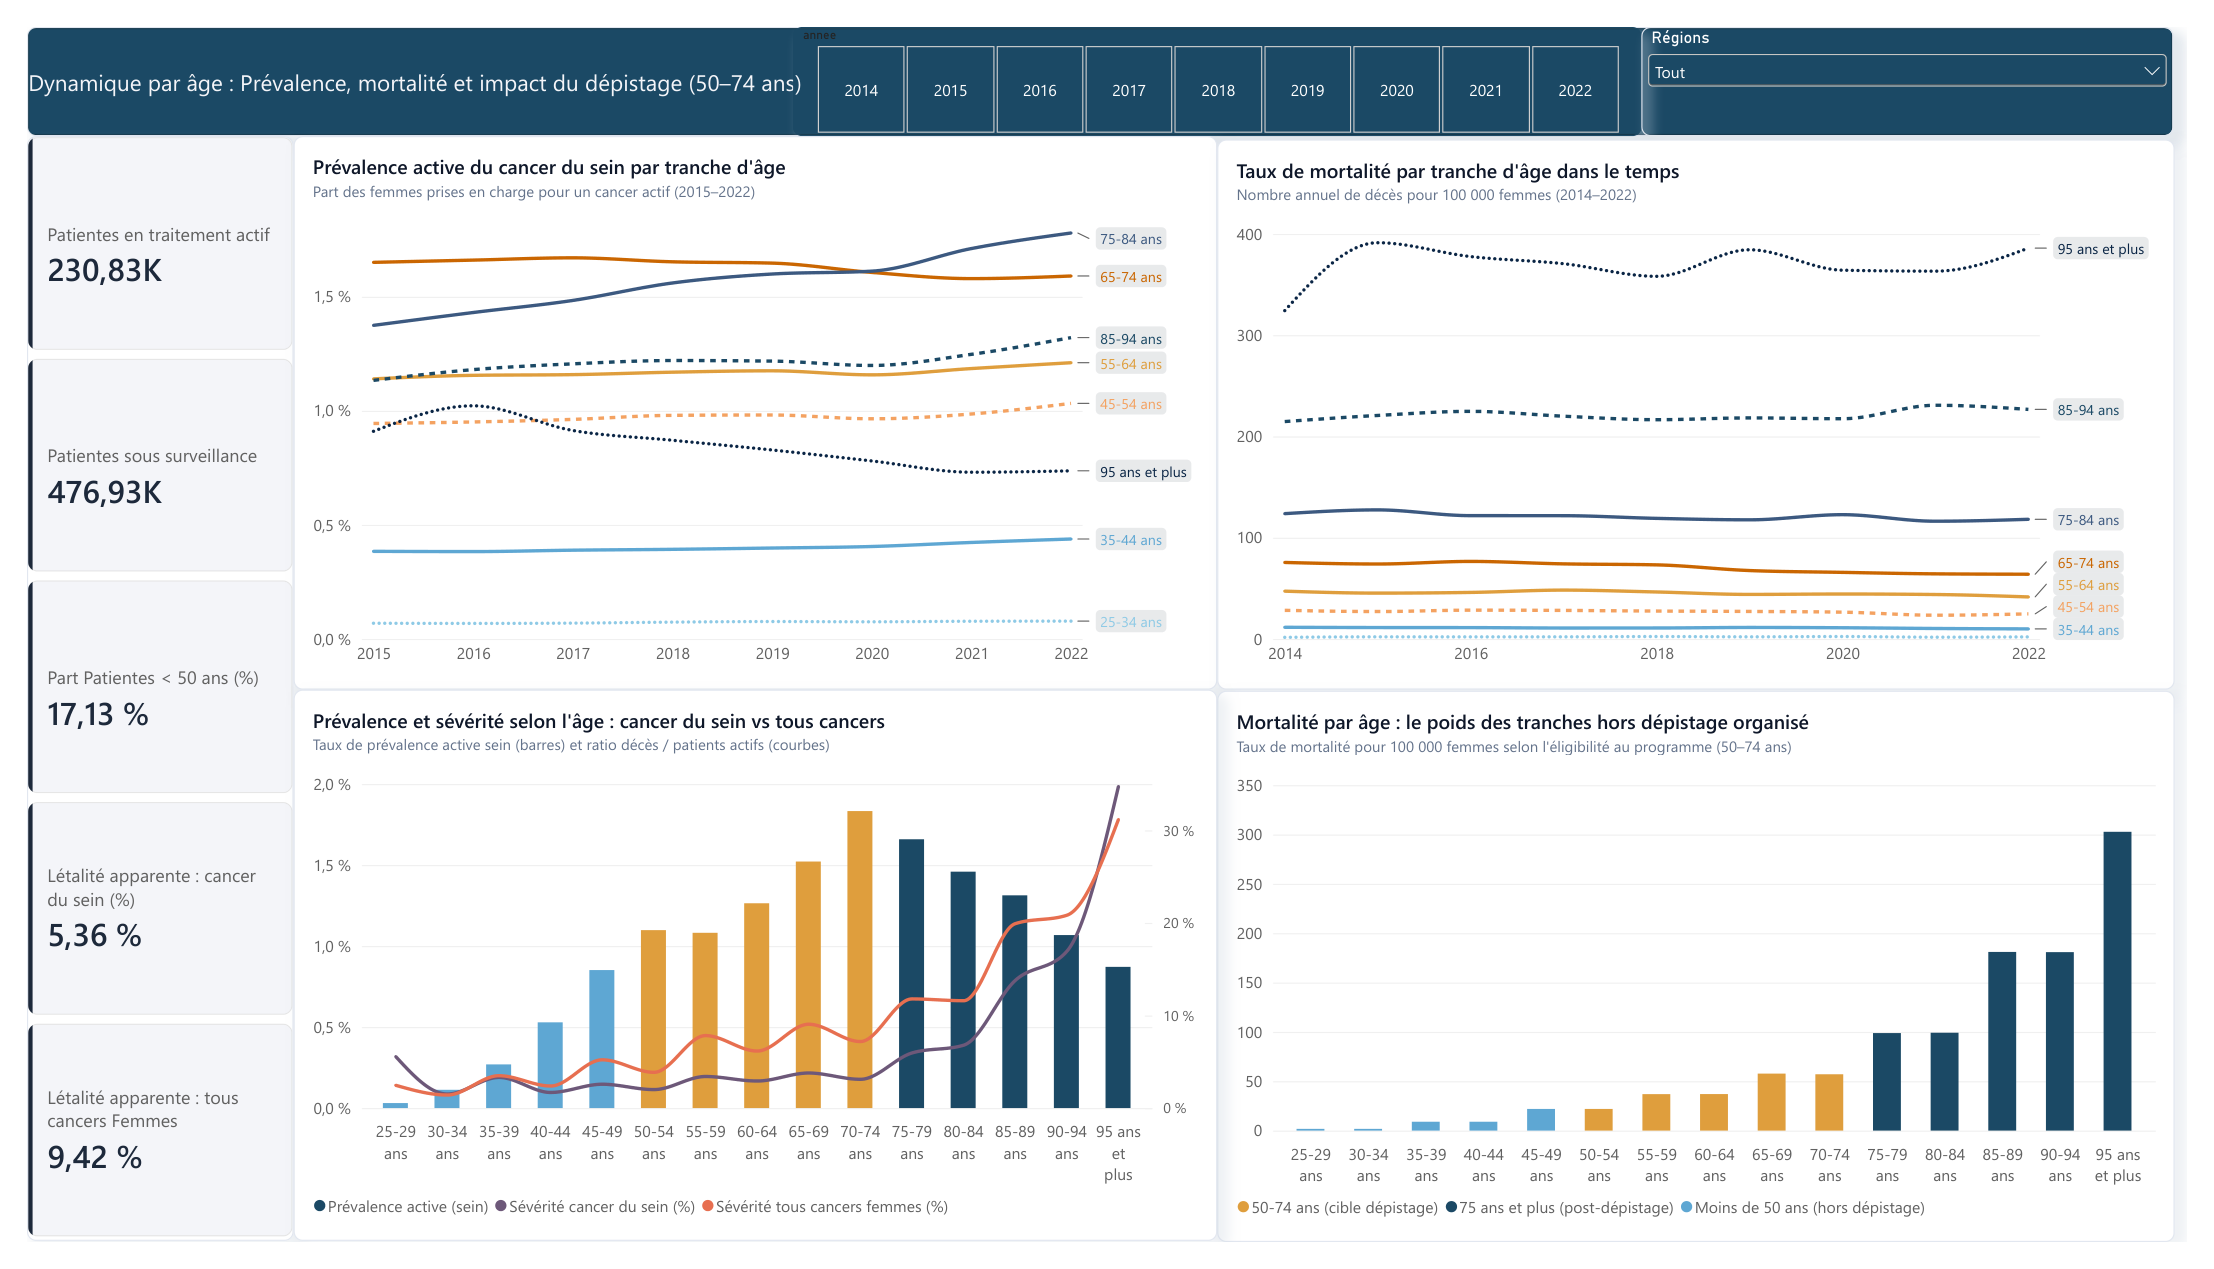

This screenshot's page, from the dashboard's own definition file:
{"tool":"powerbi","page":{"name":"Évolution par tranche d'âge — Prévalence, Mortalité et Cible Dépistage","canvas":[1920,1080],"ordinal":2},"visuals":[{"type":"shape","box":[0,0,1908.5,97.2],"z":0},{"type":"slicer","fields":{"Values":["DIM_annee.annee"]},"box":[680.5,0,754.7,97.2],"z":1000},{"type":"slicer","fields":{"Values":["DIM_regions.libelle_region"]},"box":[1435.2,0,473.3,97.2],"z":2000},{"type":"cardVisual","fields":{"Data":["_Mesures.Patientes Actives Sein","_Mesures.Patientes Surveillance Sein","_Mesures.Part Patientes < 50 ans (%)","_Mesures.Ratio Décès / Actifs Sein (%)","_Mesures.Ratio Décès / Actifs Tous Cancers Femmes (%)"]},"box":[0,97.4,237.5,981.3],"z":3000},{"type":"lineChart","title":"Prévalence active du cancer du sein par tranche d''âge","fields":{"Category":["DIM_annee.annee"],"Series":["dim_tranches_age.tranche_age_10"],"Y":["_Mesures.Taux Prévalence Active (%)"]},"box":[237.3,97.4,820.7,491.7],"z":4000},{"type":"lineChart","title":"Taux de mortalité par tranche d''âge dans le temps","fields":{"Category":["DIM_annee.annee"],"Series":["dim_tranches_age.tranche_age_10"],"Y":["_Mesures.Taux Mortalité Sein (/ 100k)"]},"box":[1058,99.7,850.5,489.5],"z":5000},{"type":"columnChart","title":"Mortalité par âge : le poids des tranches hors dépistage organisé","fields":{"Category":["dim_tranches_age.libelle_tranche_age_5"],"Series":["dim_tranches_age.groupe_depistage"],"Y":["_Mesures.Taux Mortalité Sein (/ 100k)"]},"box":[1058,590.3,850.5,489.5],"z":6000},{"type":"lineStackedColumnComboChart","title":"Prévalence et sévérité selon l''âge : cancer du sein vs tous cancers","fields":{"Category":["dim_tranches_age.libelle_tranche_age_5"],"Y":["_Mesures.Taux Prévalence Active (%)"],"Y2":["_Mesures.Ratio Décès / Patientes Actives (%)","_Mesures.Ratio Décès / Actifs Tous Cancers Femmes (%)"]},"box":[237.5,588.6,821,490],"z":7000}]}

Visuals, with their boxes in screenshot pixels (x1, y1, x2, y2), scaled from the page's 1920x1080 canvas onto the 2214x1269 screenshot:
shape: x1=0, y1=0, x2=2201, y2=114
slicer - DIM_annee.annee: x1=785, y1=0, x2=1655, y2=114
slicer - DIM_regions.libelle_region: x1=1655, y1=0, x2=2201, y2=114
cardVisual - _Mesures.Patientes Actives Sein x _Mesures.Patientes Surveillance Sein: x1=0, y1=114, x2=274, y2=1267
"Prévalence active du cancer du sein par tranche d''âge" lineChart: x1=274, y1=114, x2=1220, y2=692
"Taux de mortalité par tranche d''âge dans le temps" lineChart: x1=1220, y1=117, x2=2201, y2=692
"Mortalité par âge : le poids des tranches hors dépistage organisé" columnChart: x1=1220, y1=694, x2=2201, y2=1268
"Prévalence et sévérité selon l''âge : cancer du sein vs tous cancers" lineStackedColumnComboChart: x1=274, y1=692, x2=1221, y2=1267
